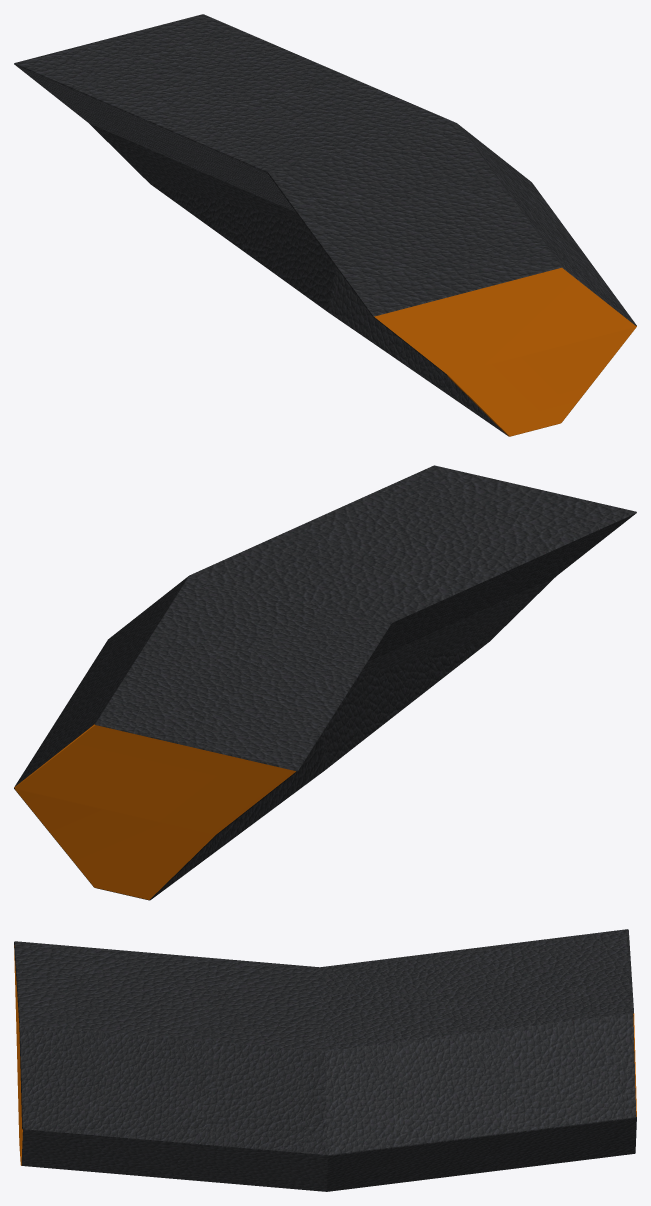
The model's file is SpaceTable.fbx.
The picture shows the model from 3 angles, top to bottom: view 1: azimuth 30°, elevation 25°; view 2: azimuth 150°, elevation 25°; view 3: azimuth 270°, elevation 25°; orthographic projection. The views are drawn at different scales.
Parts seen in each view (by area): view 1: pCube1; view 2: pCube1; view 3: pCube1.
Part boxes in pixels (left/top/right/bottom): pCube1: left=14, top=14, right=636, bottom=436; pCube1: left=14, top=465, right=636, bottom=900; pCube1: left=14, top=929, right=636, bottom=1191.
Bounding box in the file's own units: 12.5 × 5.57 × 21.51.
2 materials, 1 textured.
